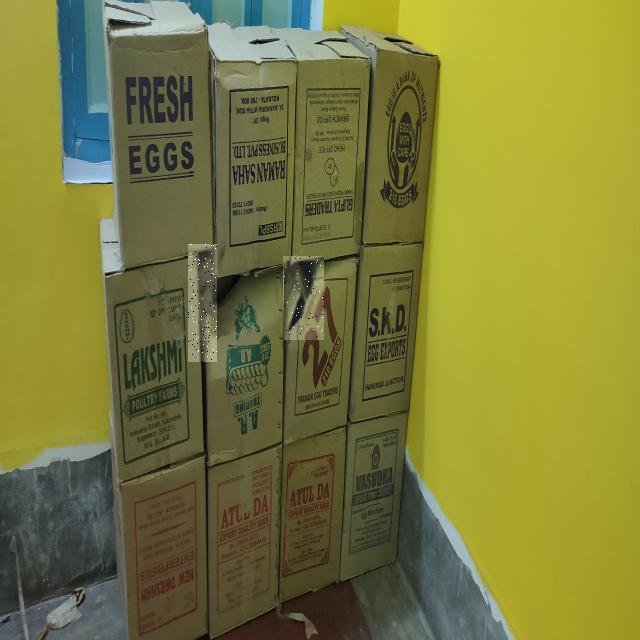squeeze: (188, 244, 217, 360), (284, 256, 324, 338)
